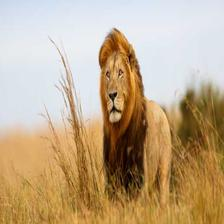Lion: (80, 19, 185, 205)
